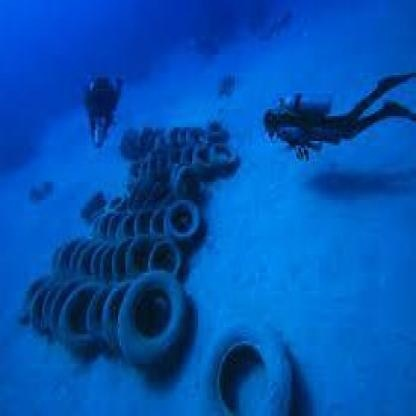tire: (100, 266, 183, 361), (207, 336, 292, 416), (62, 277, 109, 348), (154, 241, 200, 300), (165, 193, 204, 248), (200, 138, 242, 180), (201, 114, 235, 159), (131, 209, 162, 248), (115, 236, 148, 270)
